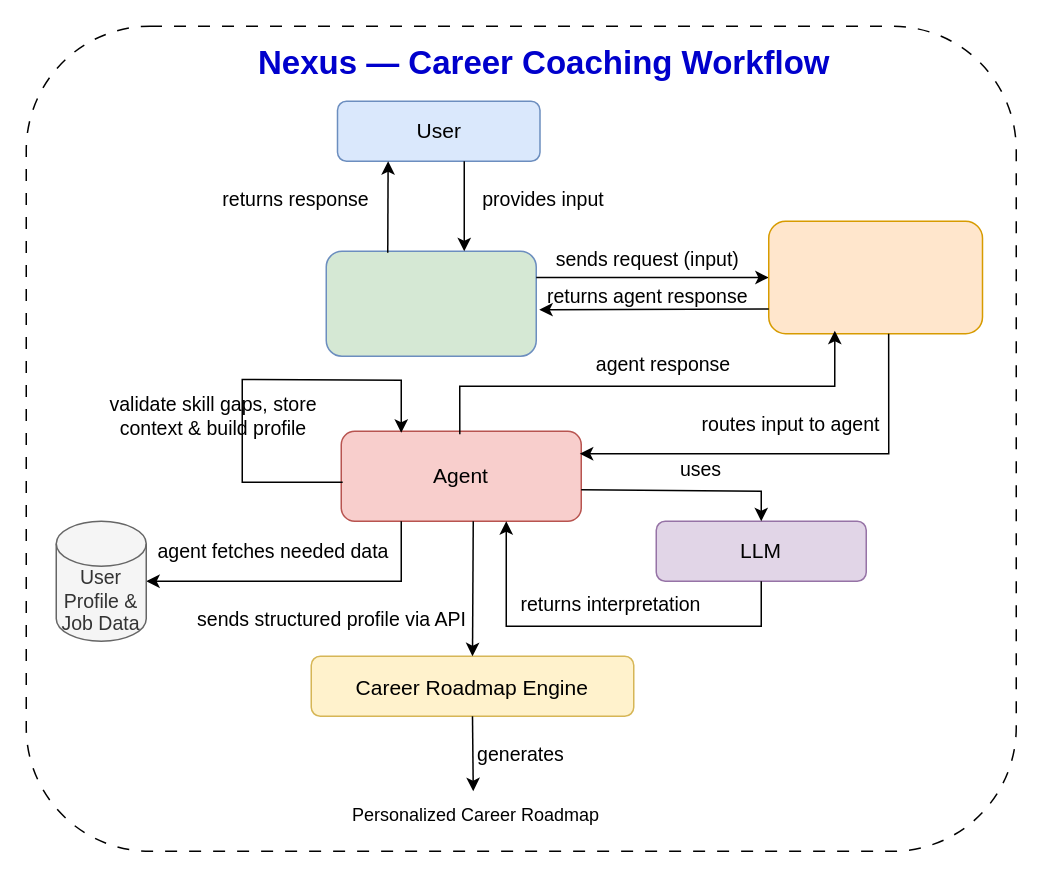
Image size: 1043x878. Some labels were removed from this diagram. The shapes that lost their labels are listed below. From the top down, each one's centre as x and y in pixels, then its label:
At point (874, 277): "API Gateway".
At point (430, 303): "Career Chat UI".
